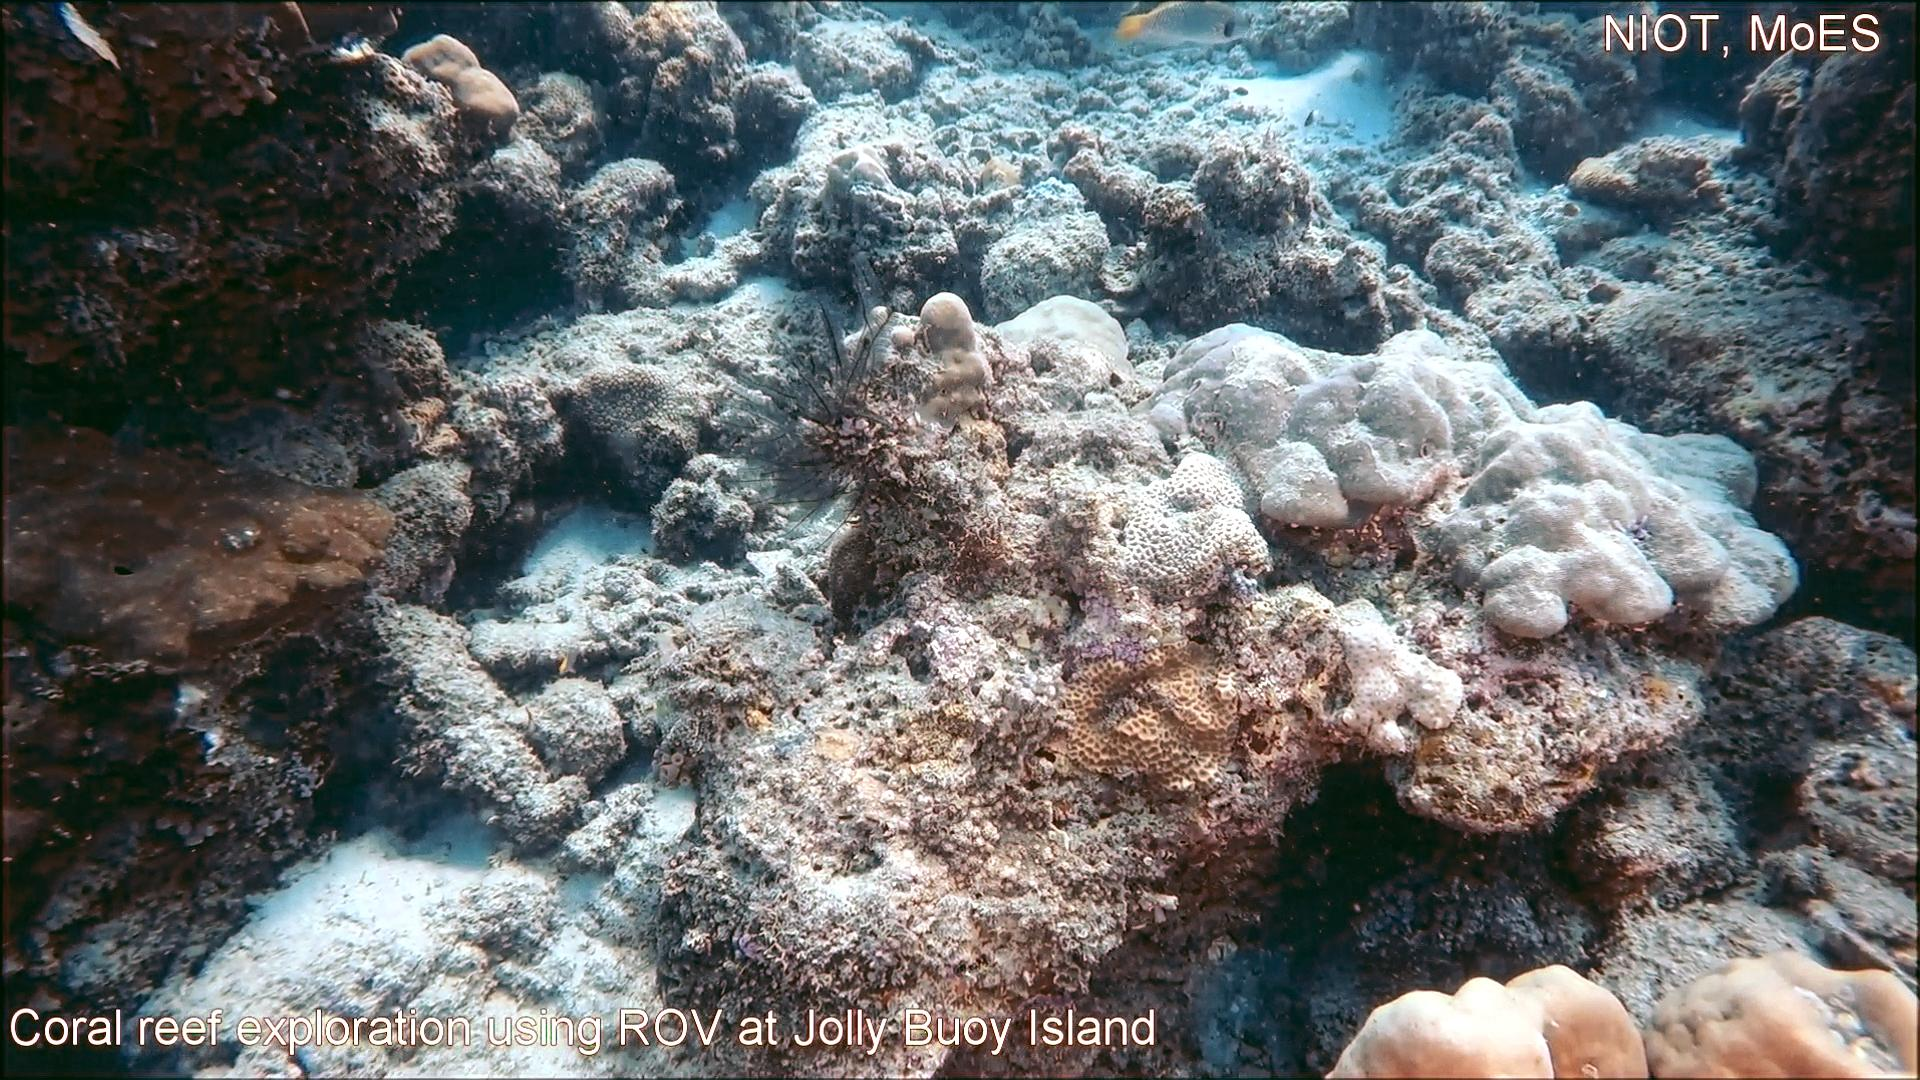Favites-Favites vasta: (1056, 634, 1250, 808)
Feather star-Crinoid star: (692, 239, 899, 580)
Goniastrea-Goniastrea pectinata: (1114, 444, 1280, 603)
Porites-Porites pukoensis: (1354, 324, 1805, 644)
Turbinaria-Turbinaria stellulata: (550, 352, 687, 517)
